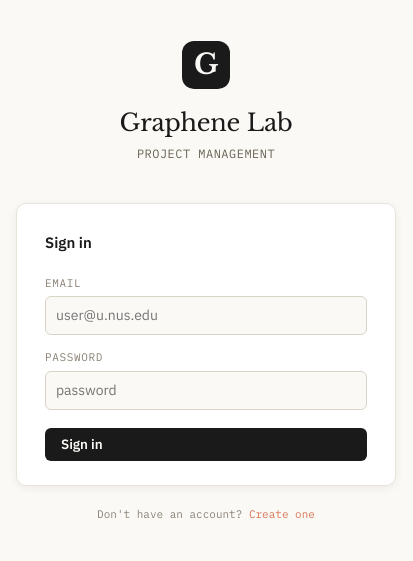
Test: LoginPage — approval gate messages › shows suspended message when login returns 403 auth.suspended
Type "suspended@u.nus.edu" into the field with placeholder "user@u.nus.edu".
click(206, 316); type("suspended@u.nus.edu")  # box [45, 296, 367, 335]
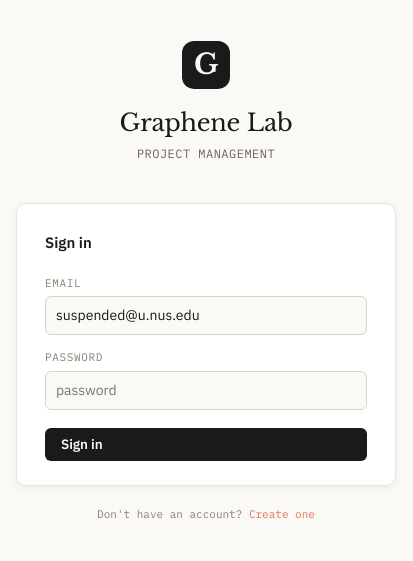
Type "password123" into the password field with placeholder "Password".
click(206, 390); type("password123")  # box [45, 371, 367, 410]
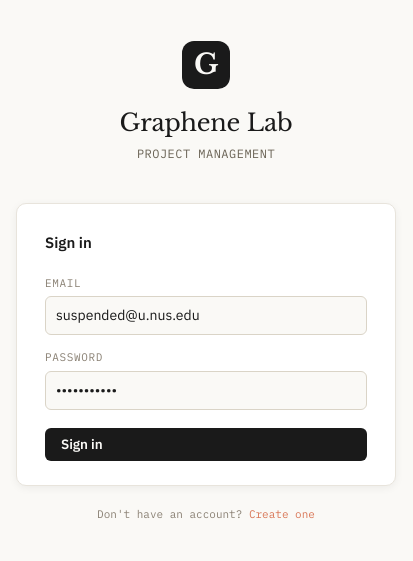
Click the button "Sign in".
click(82, 444)  # box [45, 428, 367, 461]
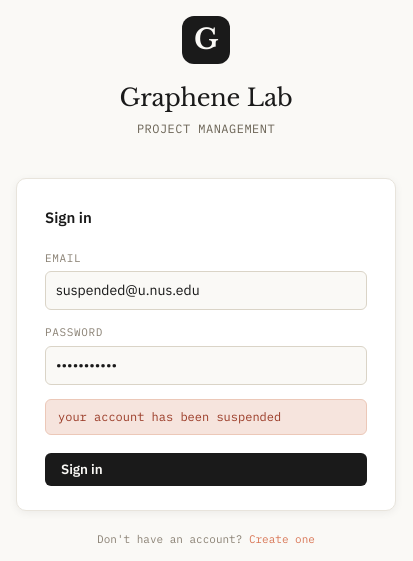
Now the text "your account has been suspended" is shown, box [45, 399, 367, 435]
